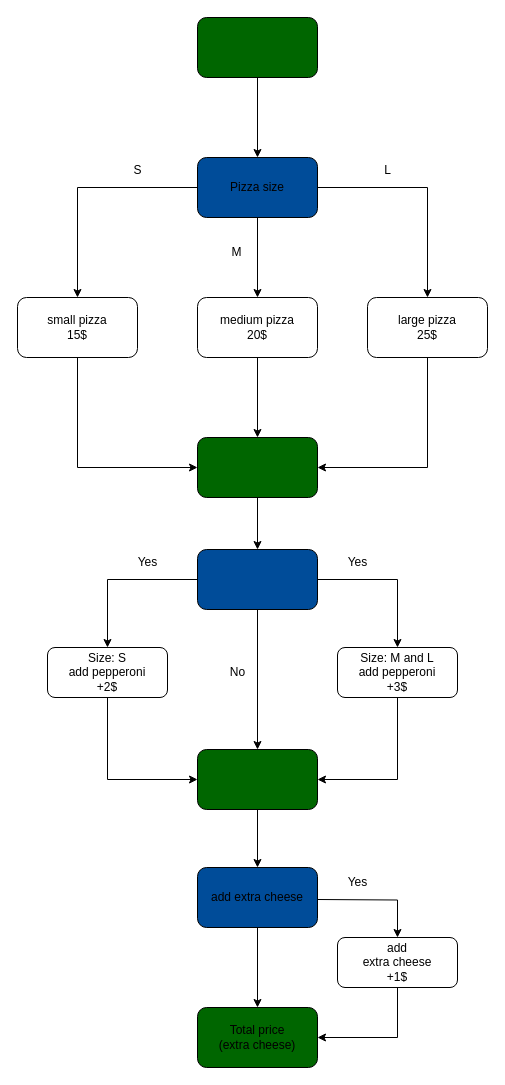
Image size: 505x1085. Some labels were removed from this diagram. The centre of each missing label's shape, as x and y in pixels:
add pepperoni: point 257,579
Pizza price: point 257,467
Start: point 257,47
Total price (pepperoni): point 257,779
